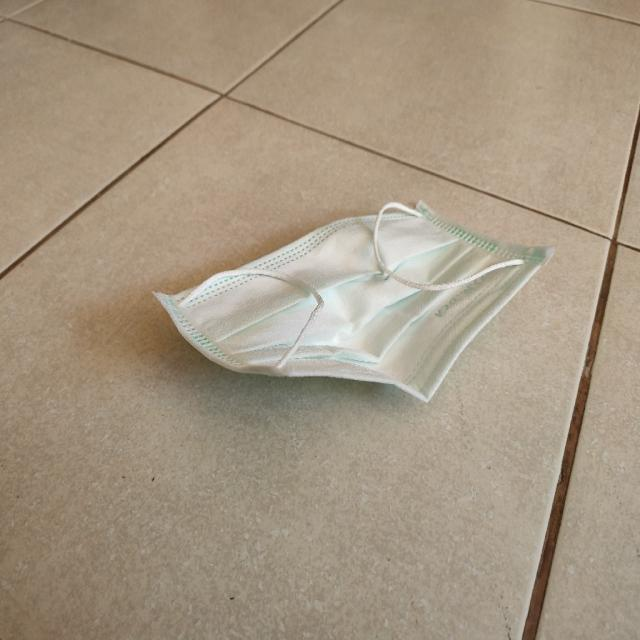face mask: (157, 194, 545, 408)
